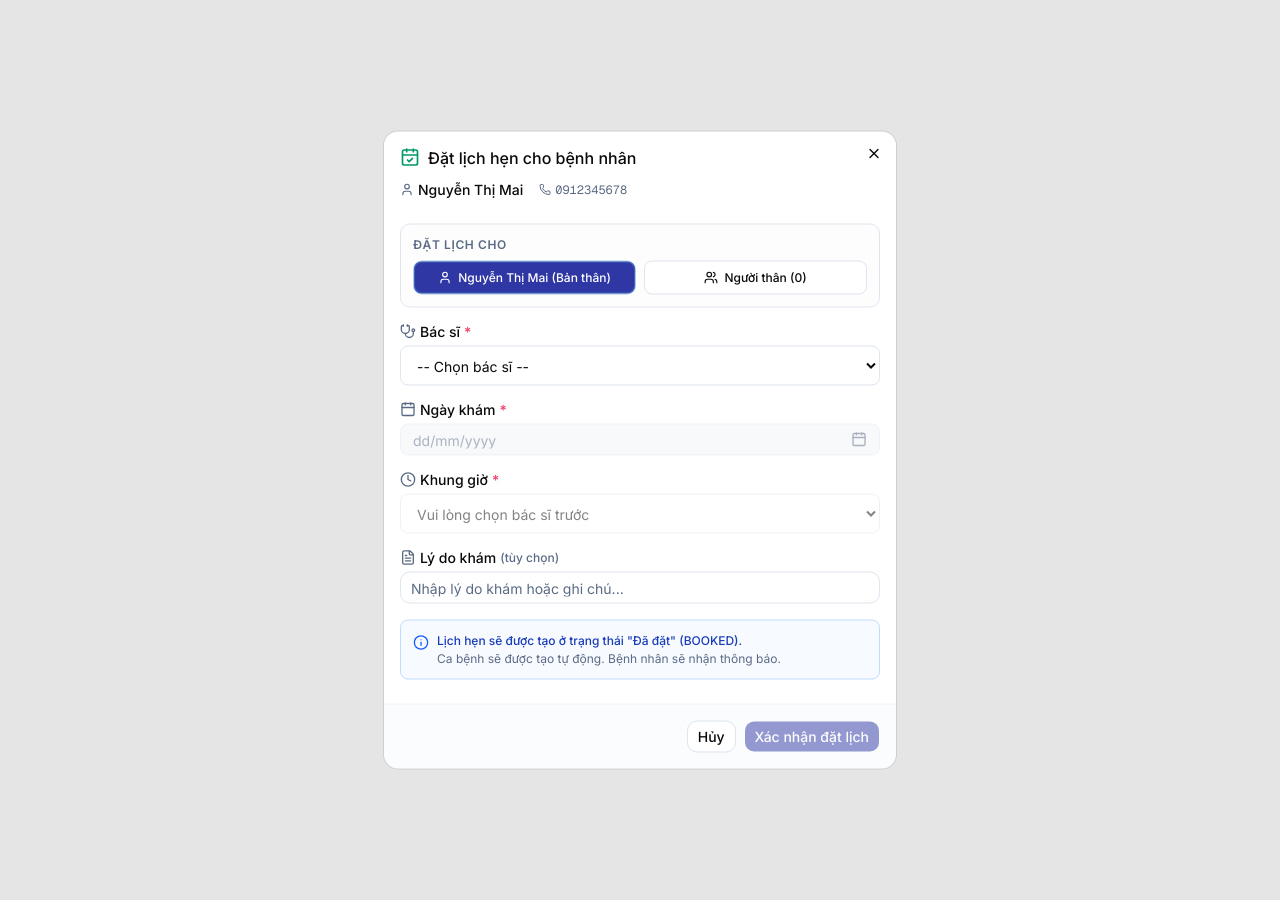
Test: BookAppointmentModal › cho phép Staff mở modal Thêm người thân ngay khi danh sách người thân đang rỗng
Check: the text "Người thân (0)" is shown, box [724,270,807,286]
Click the button "Người thân (0)". click: (756, 278)
box: [644,260,867,294]
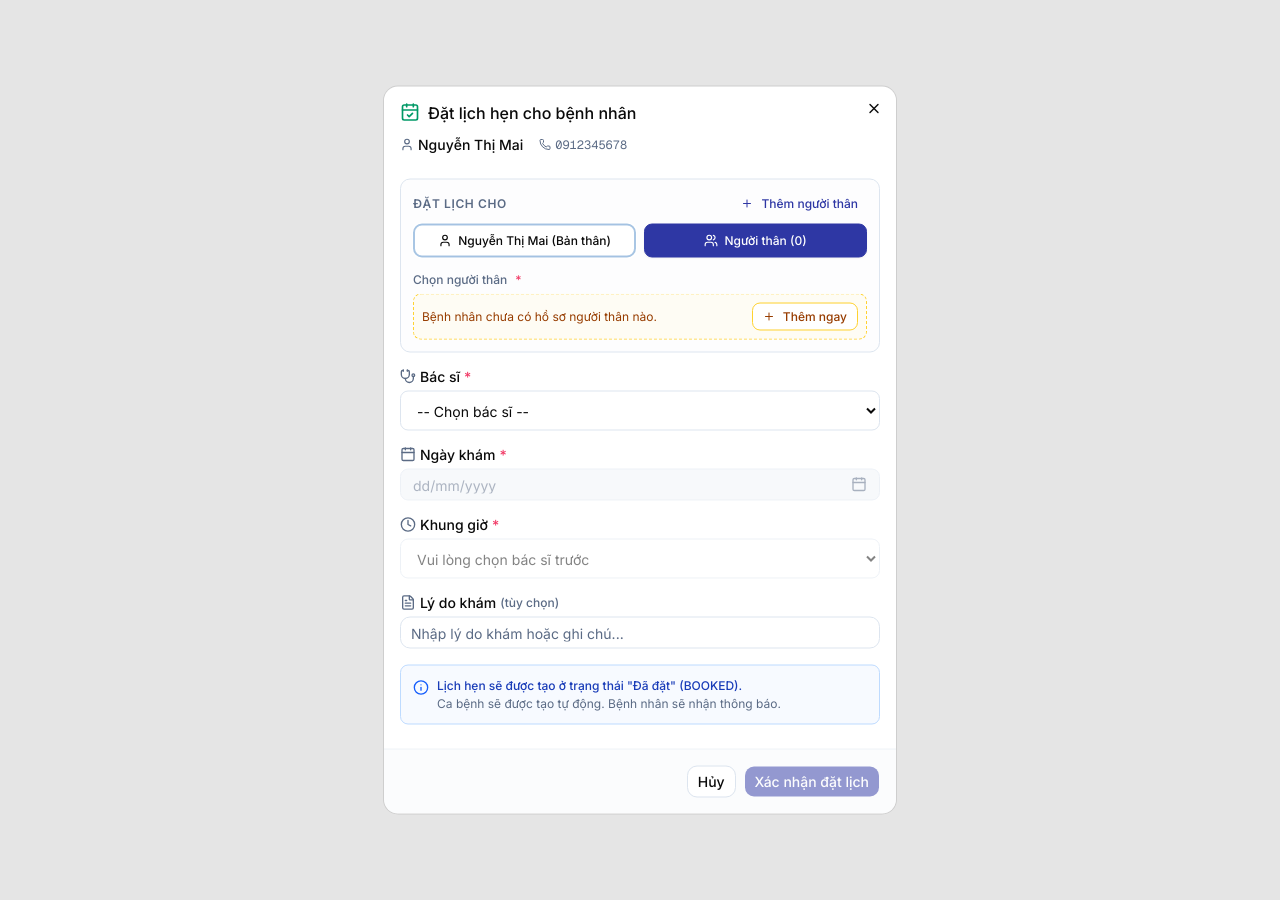
Check: the text "Bệnh nhân chưa có hồ sơ người thân nào." is shown, box [422,308,657,324]
Check: the button "Thêm ngay" is shown
Click the button "Thêm ngay". click: (805, 316)
box: [752,302,858,330]
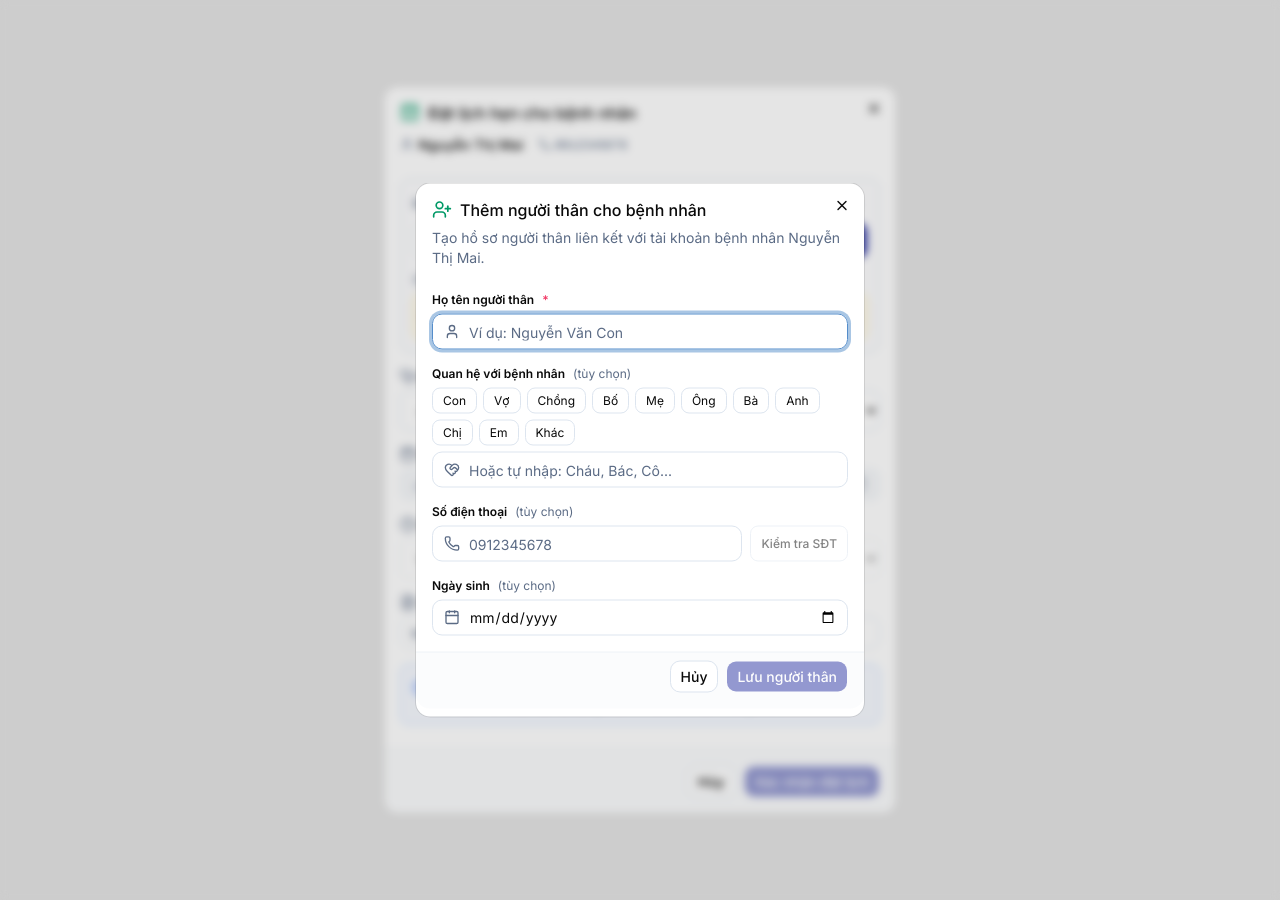
Check: the heading "Thêm người thân cho bệnh nhân" is shown, box [460,202,706,218]
